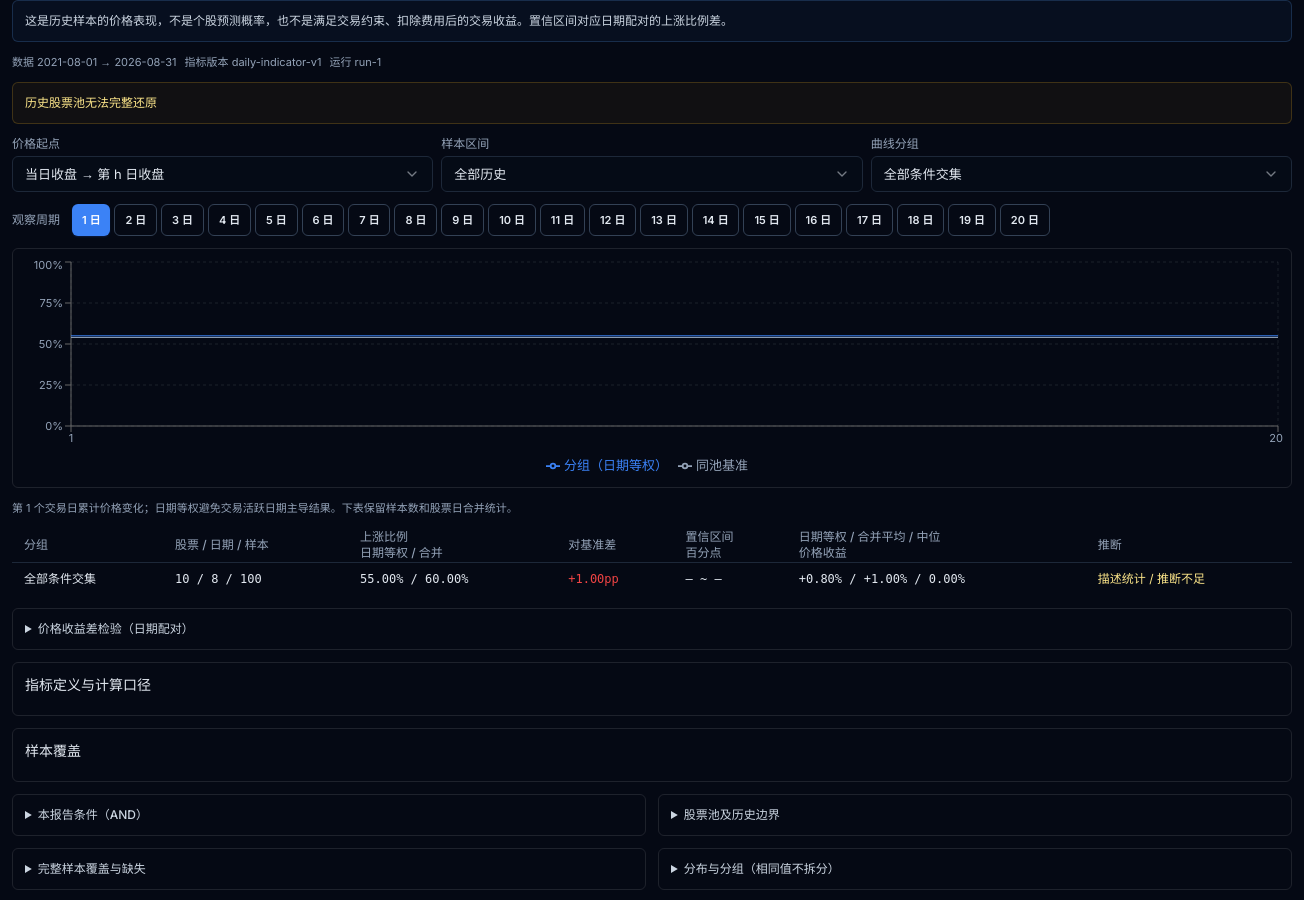
Test: IndicatorReportView › shows independent horizon counts, uncertainty and no predicted stock probability
The width and height of the screenshot is (1304, 900).
Check: the text "这是历史样本的价格表现，不是个股预测概率，也不是满足交易约束、扣除费用后的交易收益。置信区间对应日期配对的上涨比例差。" is shown, box [12,0,1292,42]
Check: the text "描述统计 / 推断不足" is shown, box [1098,571,1205,586]
Click the button "20 日" at [1025, 220], box [1000,204,1050,236]
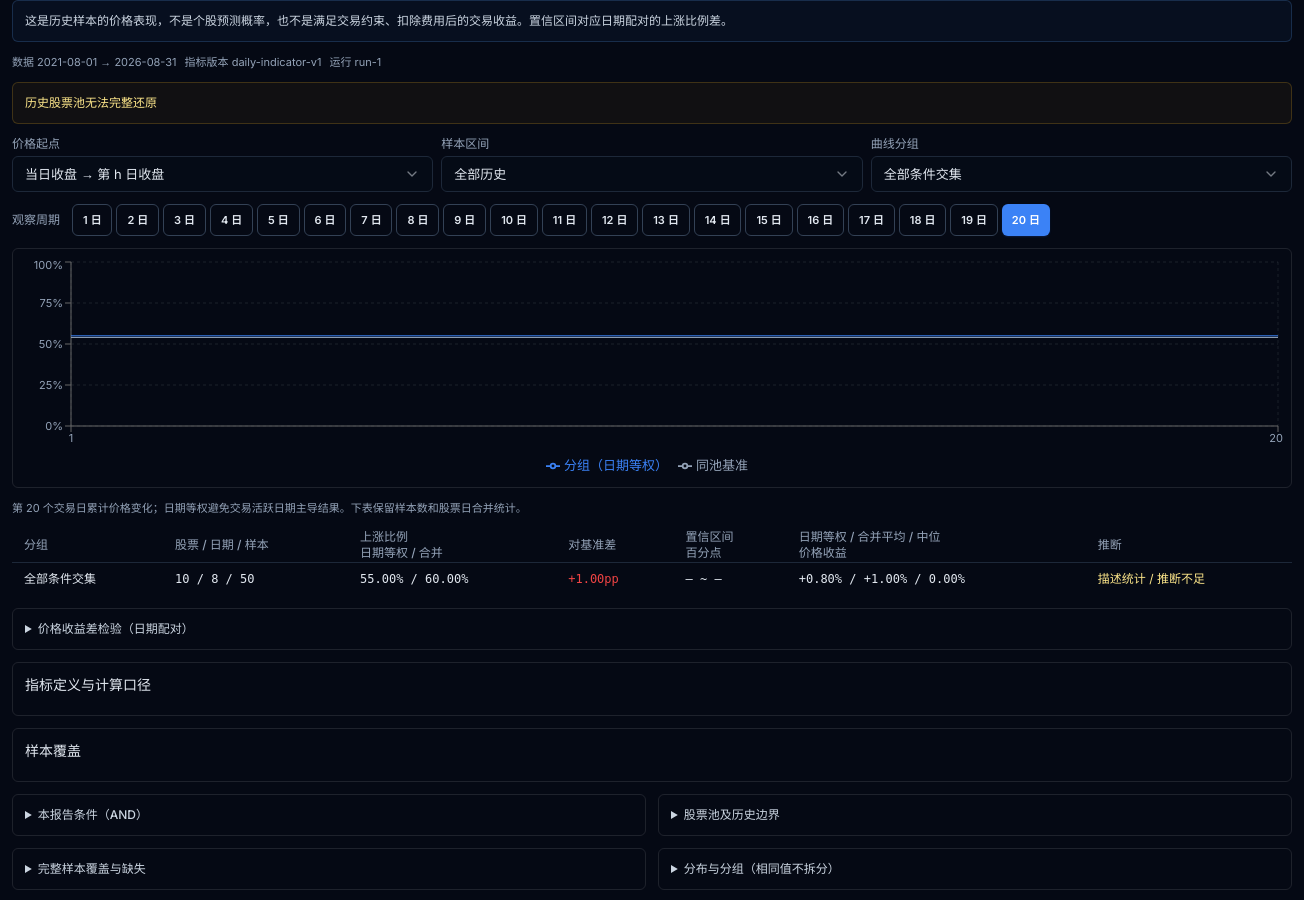
Check: the dropdown named "价格起点" is shown, box [12,156,433,192]
Check: the text "10 / 8 / 50" is shown, box [163,562,348,596]
